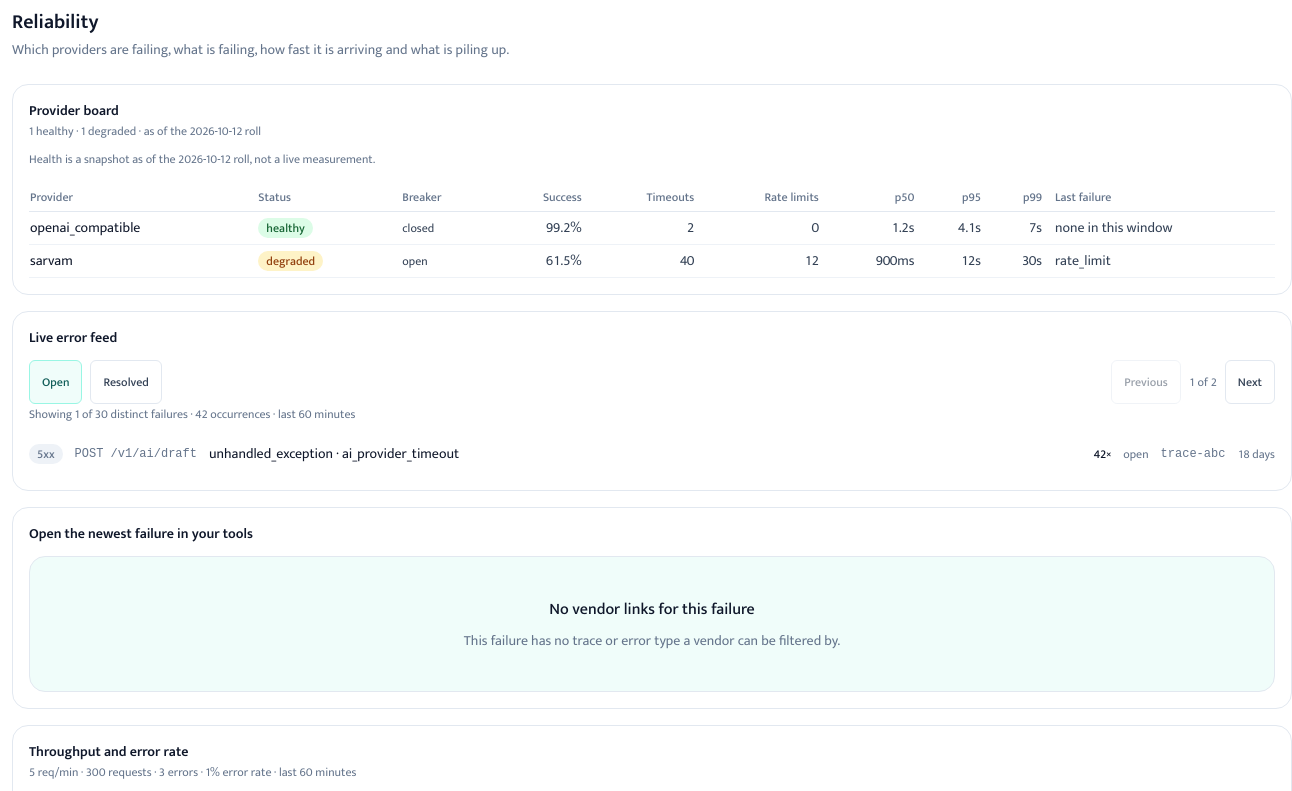
Test: ObservabilityReliabilityPage › returns to the first page when the filter changes
This screenshot has width=1292, height=791.
Click the button with test id "reliability-error-next": (1250, 382) [1225, 360, 1275, 404]
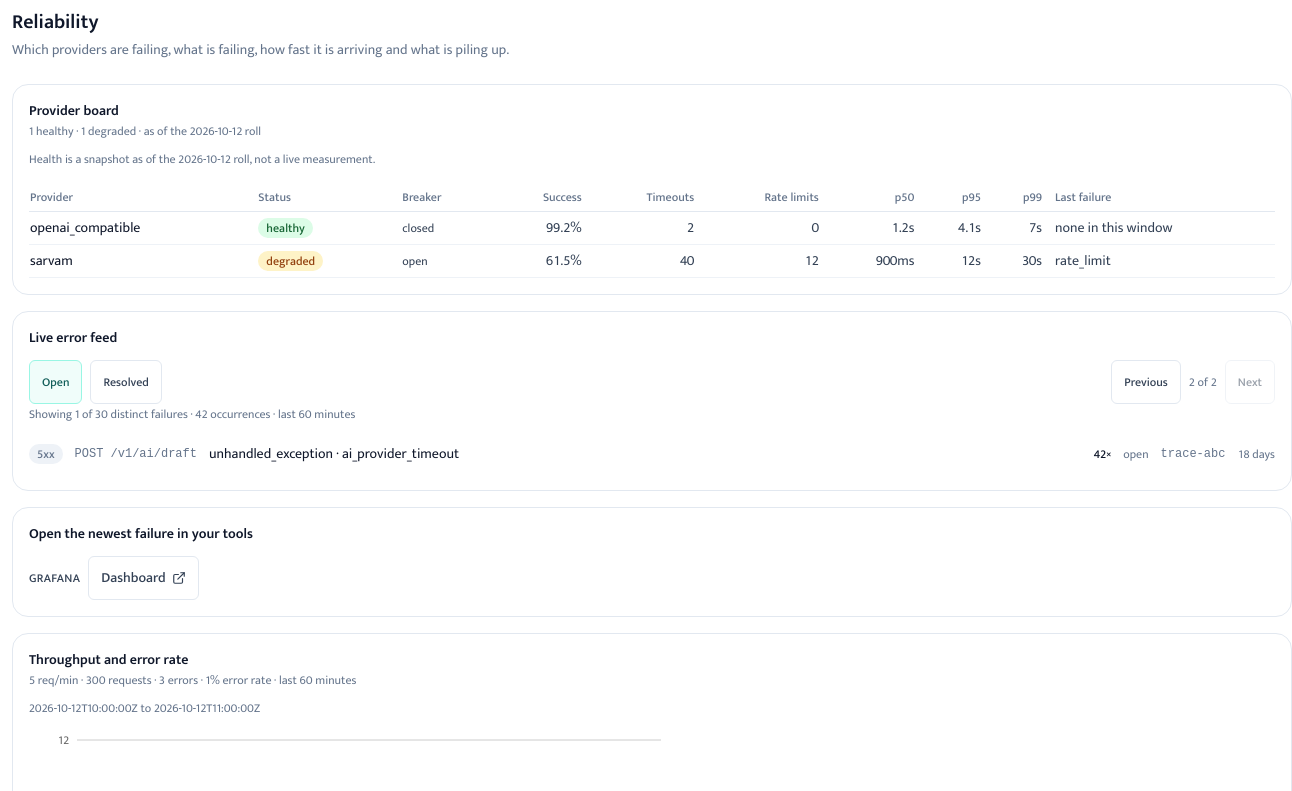
Result: the text with test id "reliability-error-page" reads "2" at [1189, 372, 1195, 392]
Click the button with test id "reliability-error-filter-resolved": (126, 382) [90, 360, 162, 404]
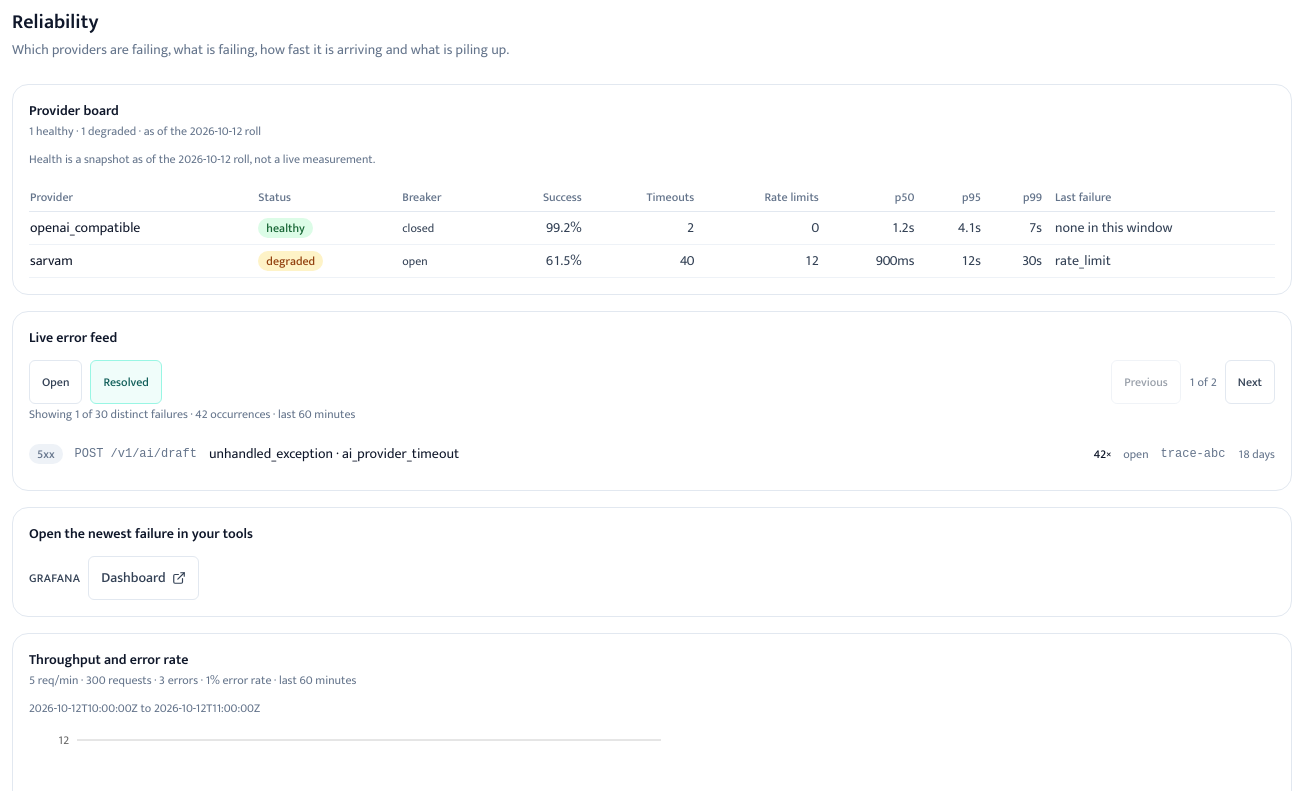
Result: the text with test id "reliability-error-page" reads "1" at [1189, 372, 1195, 392]
